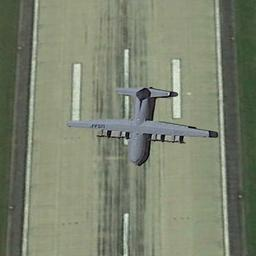Airplane: (64, 85, 218, 166)
